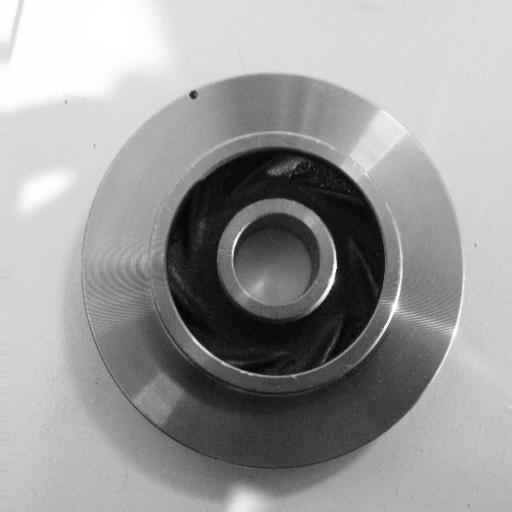pit: (180, 80, 206, 109)
unpolished_casting: (78, 71, 467, 473)
